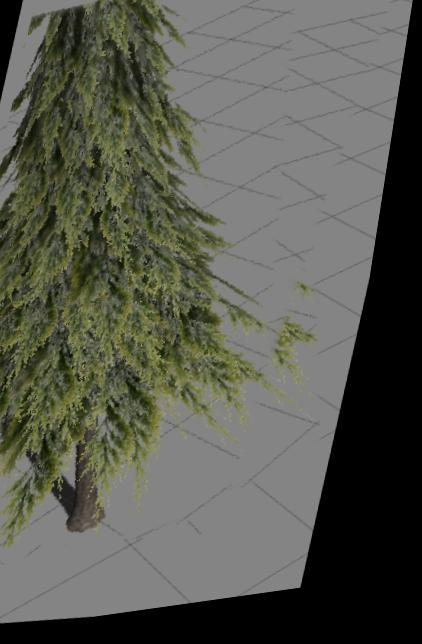tree_gazebo: (0, 0, 289, 549)
